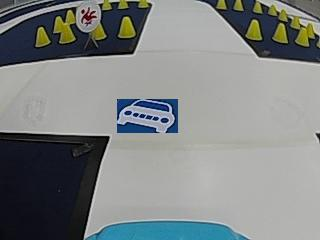cone: (245, 18, 262, 41), (118, 16, 135, 38), (58, 22, 74, 43), (34, 26, 50, 46), (272, 23, 287, 43), (296, 27, 309, 46), (92, 24, 106, 40), (53, 15, 62, 32), (290, 14, 300, 29), (253, 0, 262, 14), (268, 2, 277, 16), (279, 8, 288, 21), (233, 0, 243, 11), (102, 0, 112, 10), (216, 0, 227, 9), (118, 0, 128, 9), (138, 0, 148, 8)
tumble: (76, 2, 101, 29)
